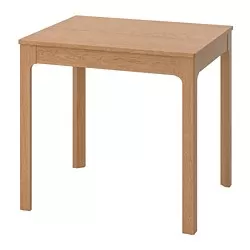Table: (18, 15, 234, 235)
